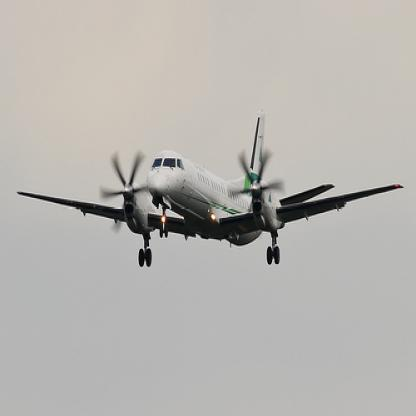aeroplane: (17, 112, 404, 265)
